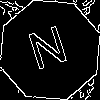N: (25, 25, 74, 80)
